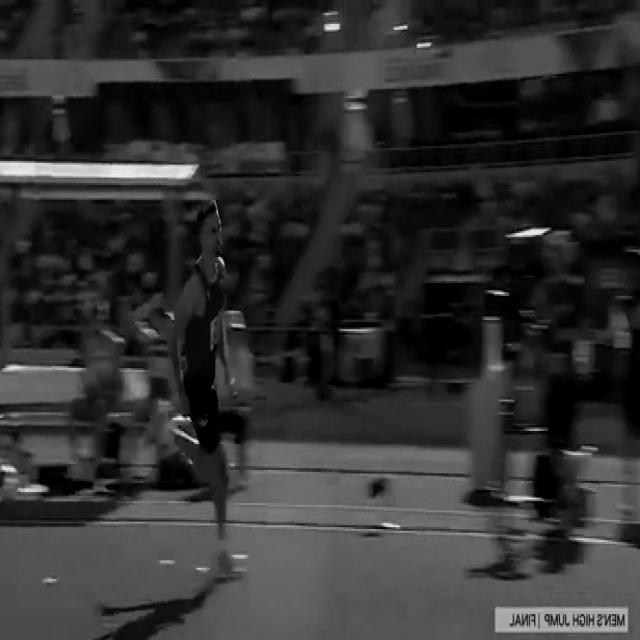run: (141, 198, 251, 582)
